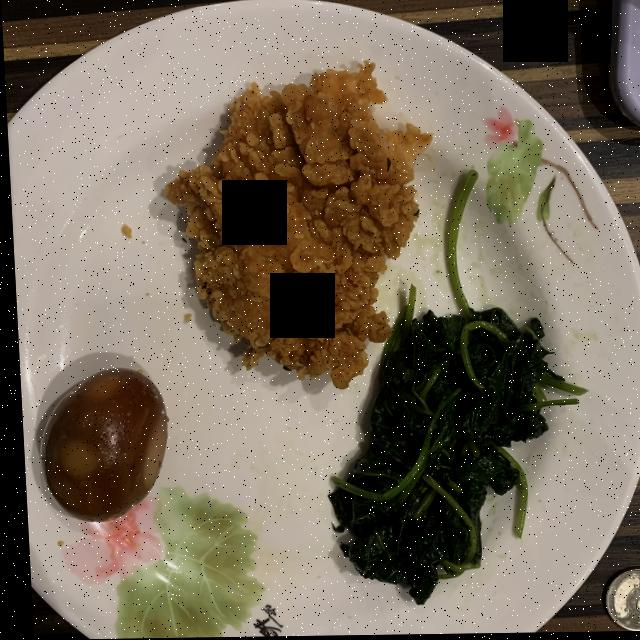coin: (597, 571, 640, 633)
fried chicken cutlet: (162, 63, 429, 389)
soy egg: (37, 369, 162, 521)
sweet potato leaves: (323, 172, 581, 606)
